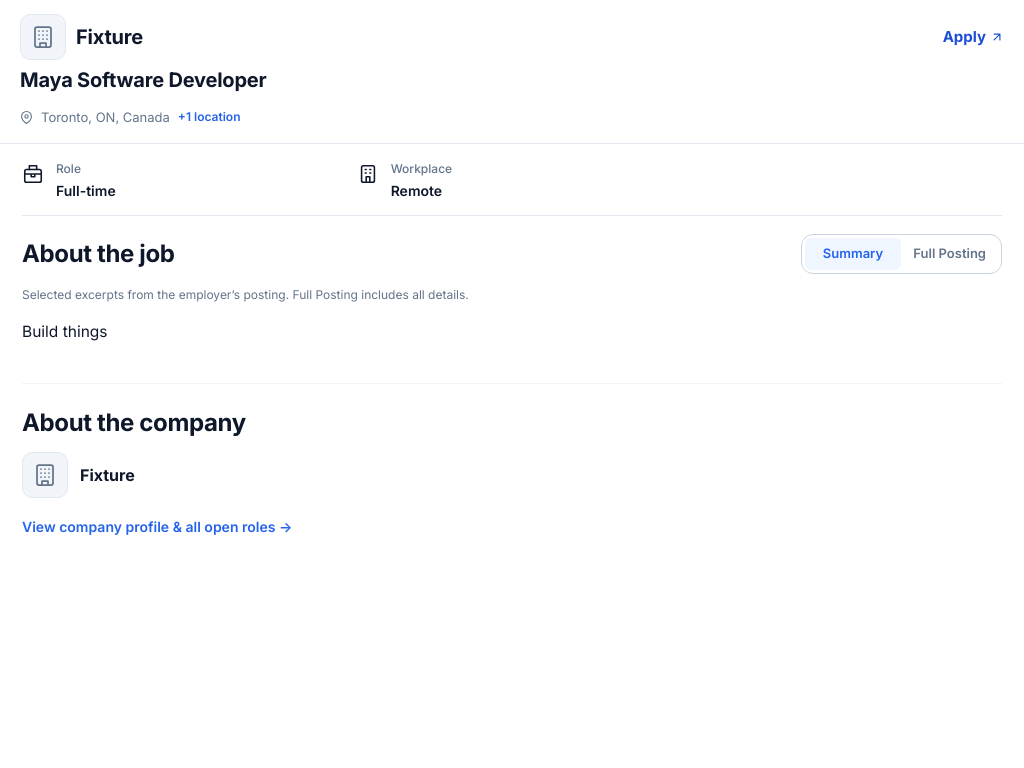
Test: location display › shows primary + "+1 location" for two locations and reveals the other on demand
Check: the link with aria-label "Apply for" is shown, box [943,15,1004,59]
Check: the text "London" is not shown
Click the button "+1 location": click(209, 117) [178,101,240,133]
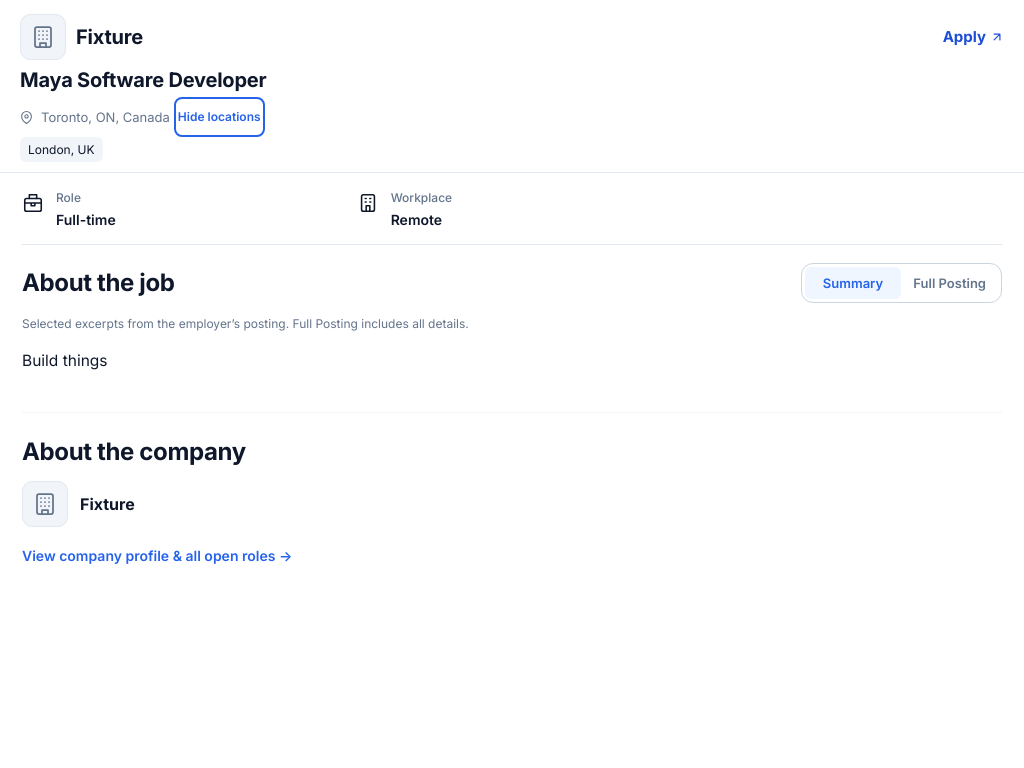
Check: the list item "London, UK" is shown, box [20,137,102,162]
